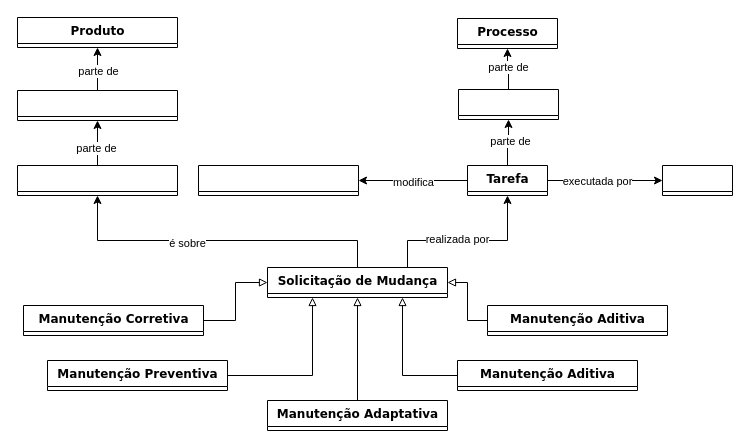
Image size: 750x448. Some labels were removed from this diagram. Each missing label, with the centre of its shape:
"Atividade" goes at [508,104].
"Funcionalidade" goes at [97,180].
"Modulo" goes at [97,105].
"Papel" goes at [697,180].
"Produto de Trabalho" goes at [278,180].
